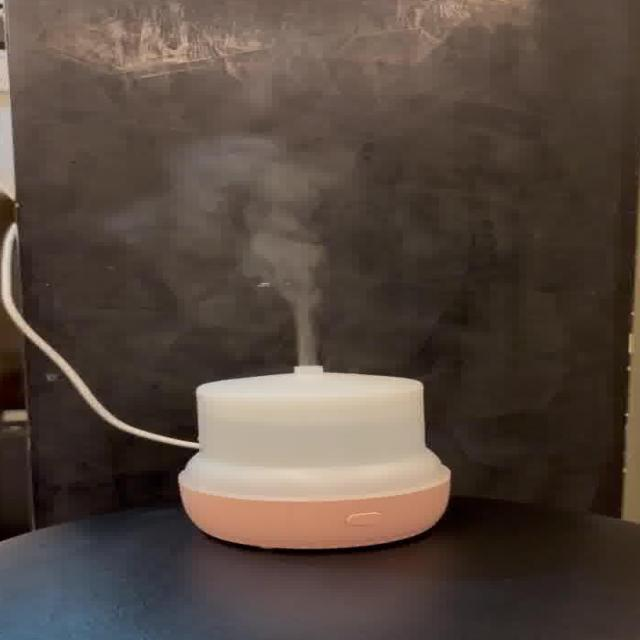fire: (148, 138, 362, 365)
